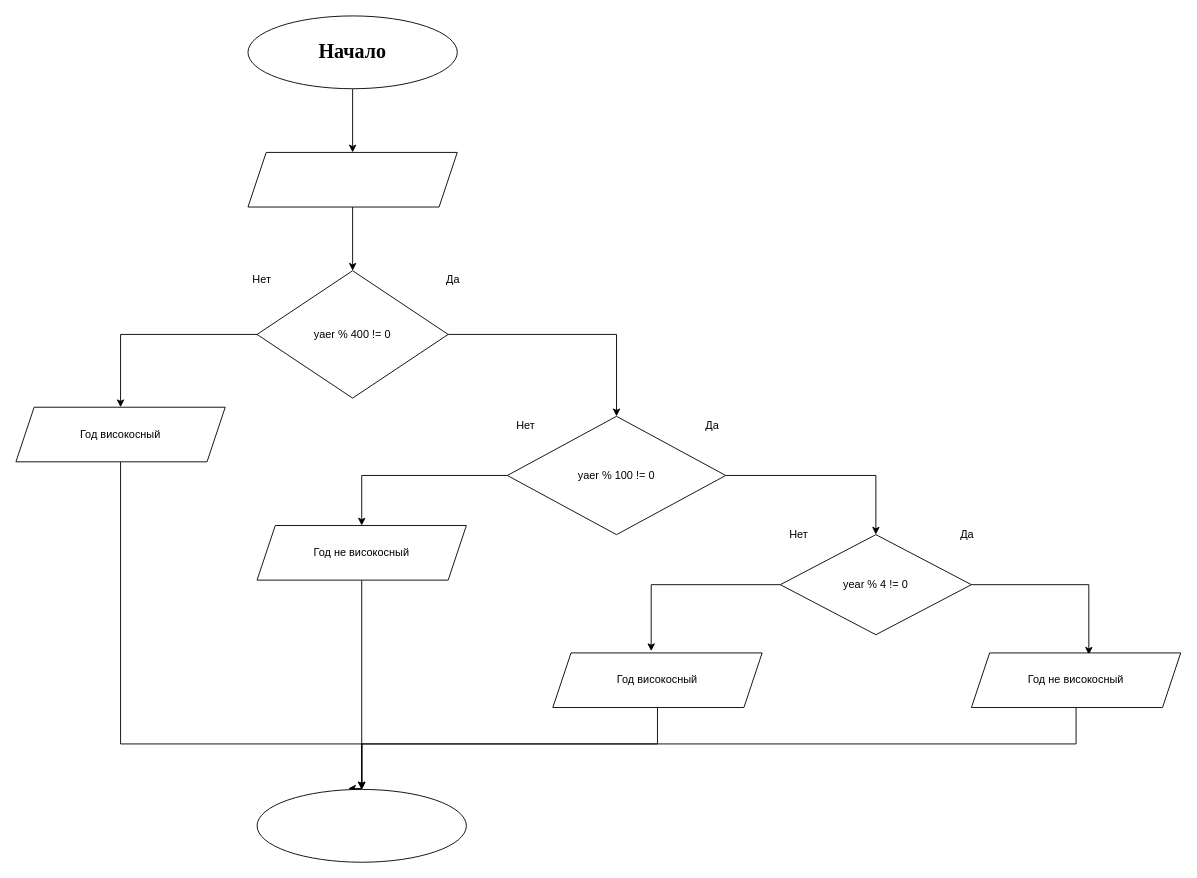
This 1197x878 diagram has some shape labels left out. Each missing label, with the centre of its shape:
"Конец" goes at [361,825].
"Пользователь вводит год: yaer" goes at [352,179].
